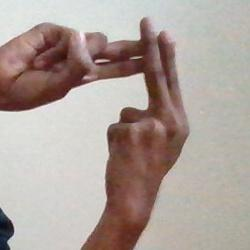F: (0, 2, 222, 250)
